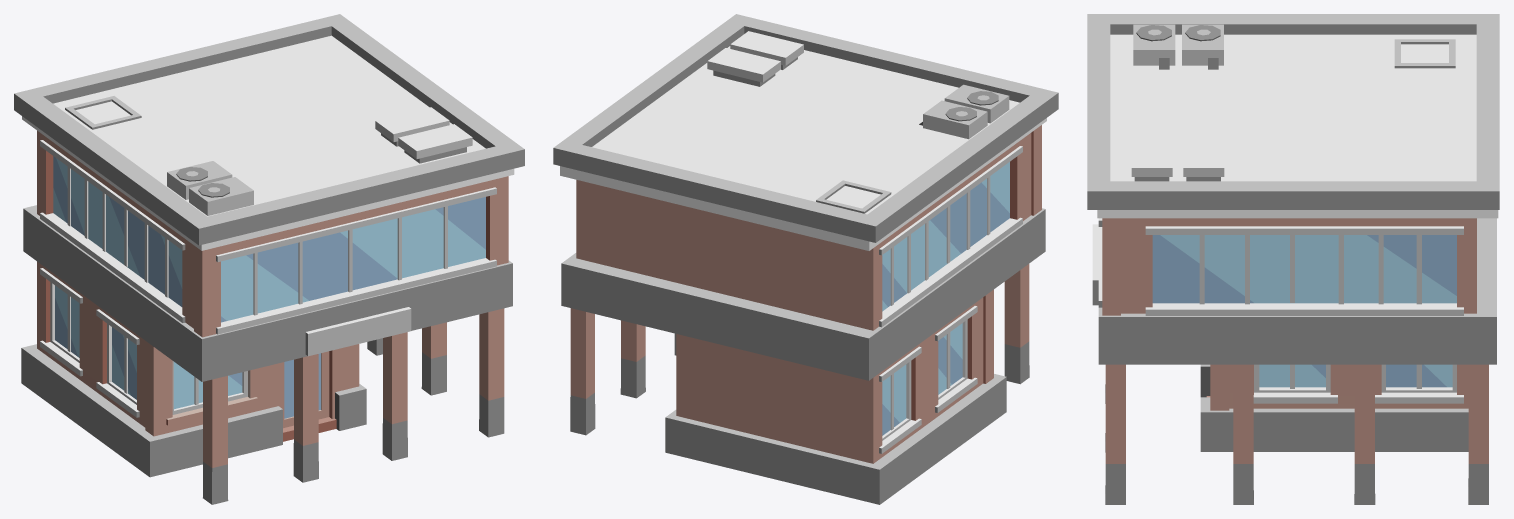
Rendered from bank_006.glb.
The picture shows the model from 3 angles, left to right: view 1: azimuth 30°, elevation 25°; view 2: azimuth 150°, elevation 25°; view 3: azimuth 270°, elevation 25°; orthographic projection. The views are drawn at different scales.
Parts seen in each view (by area): view 1: bank_006; view 2: bank_006; view 3: bank_006.
Part boxes in pixels (box(x1,y1,x2,y2)): bank_006: box(14, 14, 524, 504); bank_006: box(553, 14, 1058, 504); bank_006: box(1087, 14, 1499, 504).
Bounding box in the file's own units: 7.14 × 6.13 × 7.01.
Materials: 1 (1 with a texture image).
